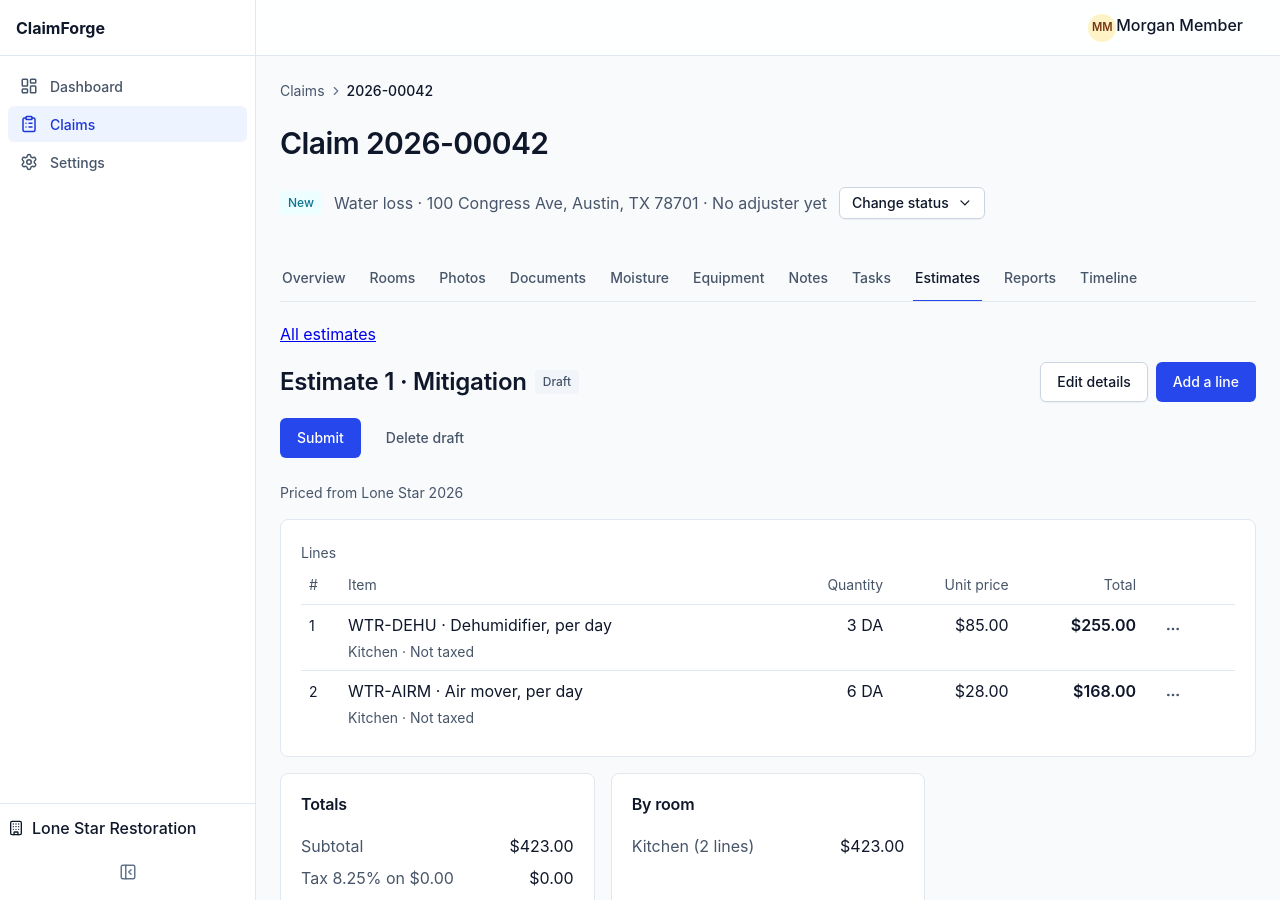
Test: deleting a draft › asks first, then goes back to the list
This screenshot has width=1280, height=900.
What coordinates should you click on to do the following:
click the button "Delete draft"
I would click on:
 (425, 438)
Its box is [369,418,481,458].
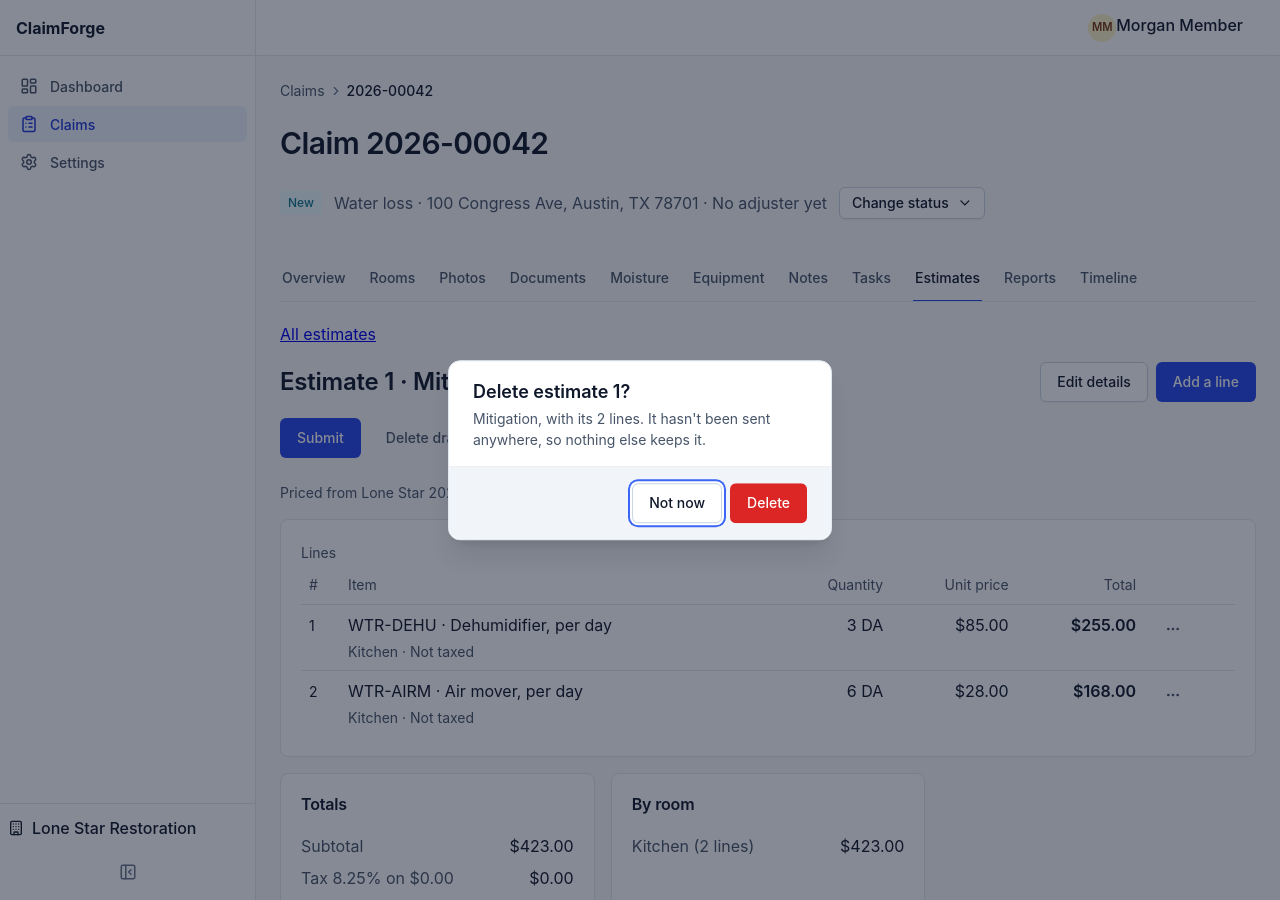
What coordinates should you click on to do the following:
click the button "Delete"
I would click on:
 (769, 503)
Its box is [730,483,807,523].
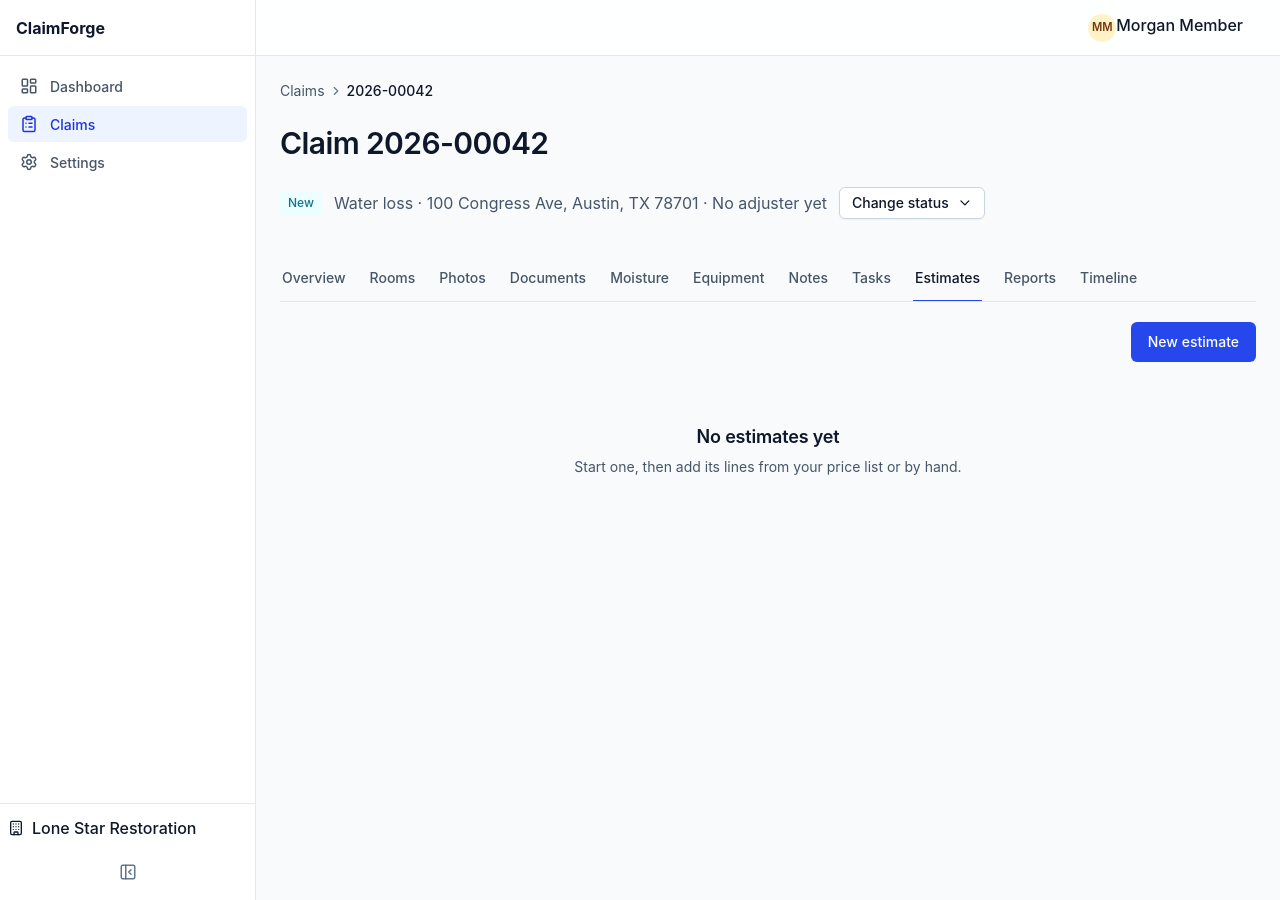
Result: the heading "No estimates yet" is shown at [696,426,839,448]
